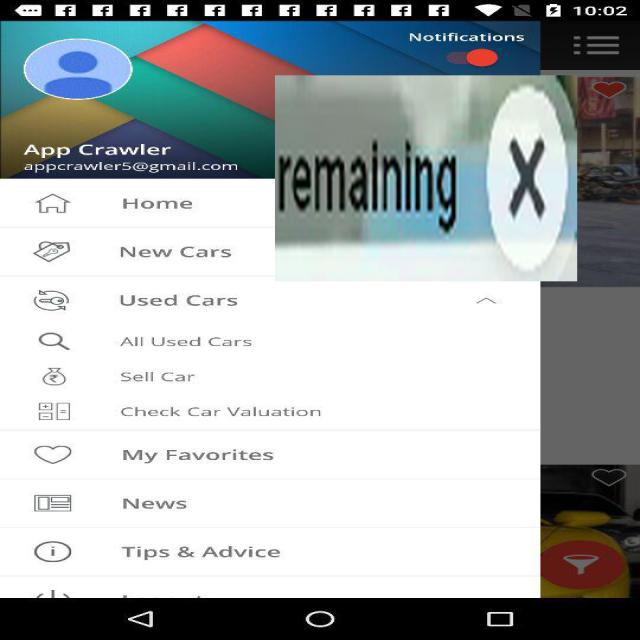misdirection: (275, 76, 577, 282)
